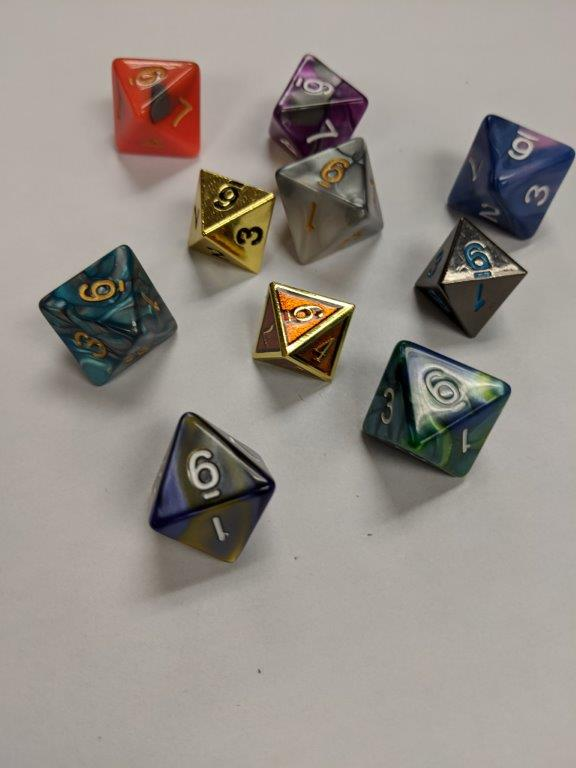d8-6: (362, 339, 514, 479), (146, 409, 276, 567), (38, 245, 176, 389), (448, 112, 576, 239), (411, 216, 529, 341), (281, 140, 386, 267), (252, 277, 356, 384), (266, 55, 370, 152), (185, 167, 274, 275), (111, 58, 201, 157)
